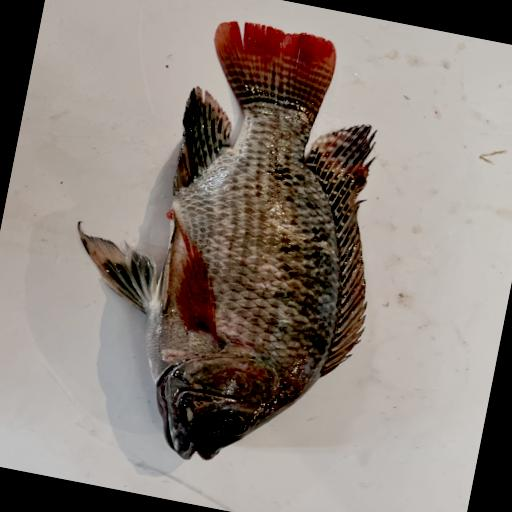Tilapia: (37, 0, 418, 489)
